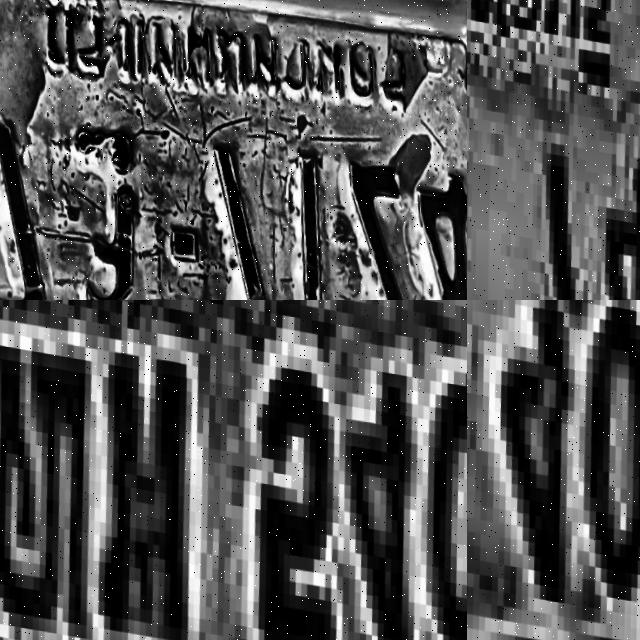license-plate: (0, 300, 467, 640), (0, 0, 467, 300), (467, 300, 640, 640), (467, 0, 640, 300)
